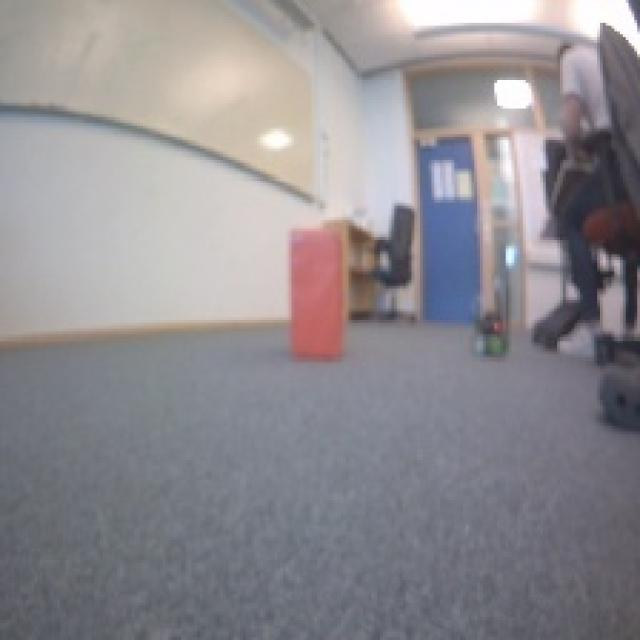robot: (469, 314, 514, 359)
target: (286, 223, 348, 357)
